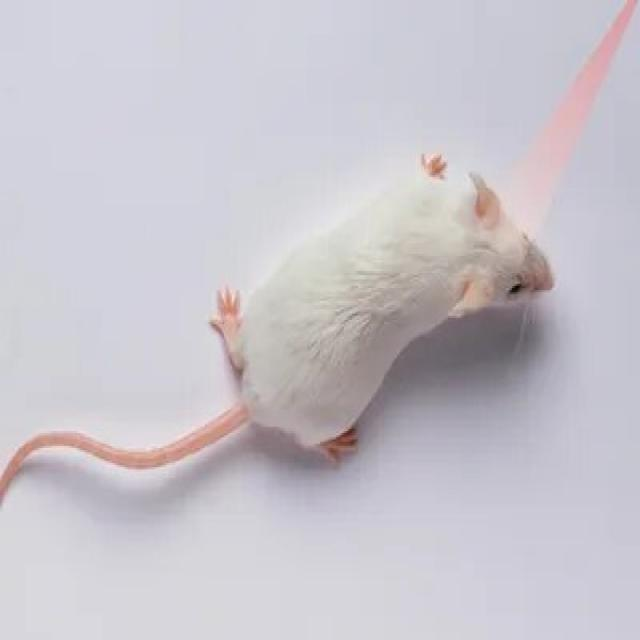rodents: (203, 136, 579, 478)
